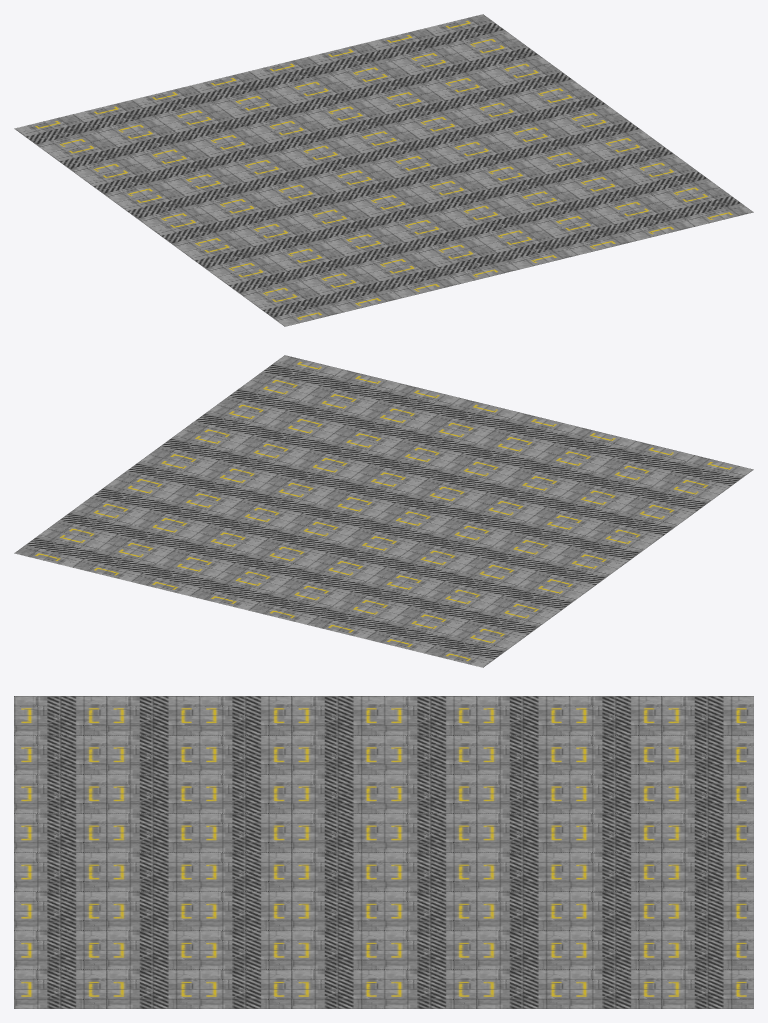
Rendered from ground.obj.
The picture shows the model from 3 angles, top to bottom: view 1: azimuth 30°, elevation 25°; view 2: azimuth 150°, elevation 25°; view 3: azimuth 270°, elevation 25°; orthographic projection. The views are drawn at different scales.
Parts seen in each view (by area): view 1: ground; view 2: ground; view 3: ground.
Part boxes in pixels (left/top/right/bottom): ground: left=14, top=14, right=753, bottom=326; ground: left=14, top=355, right=753, bottom=667; ground: left=14, top=696, right=753, bottom=1008.
Bounding box in the file's own units: 91.46 × 0 × 91.46.
Materials: 1 (1 with a texture image).
